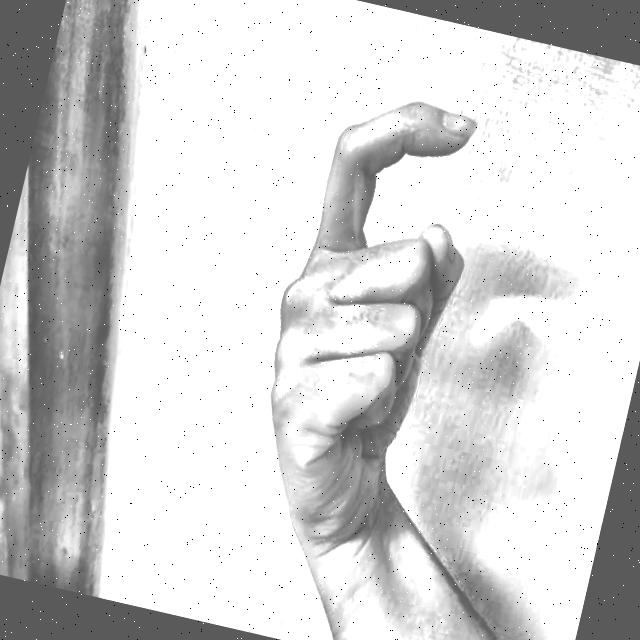E: (190, 34, 556, 586)
